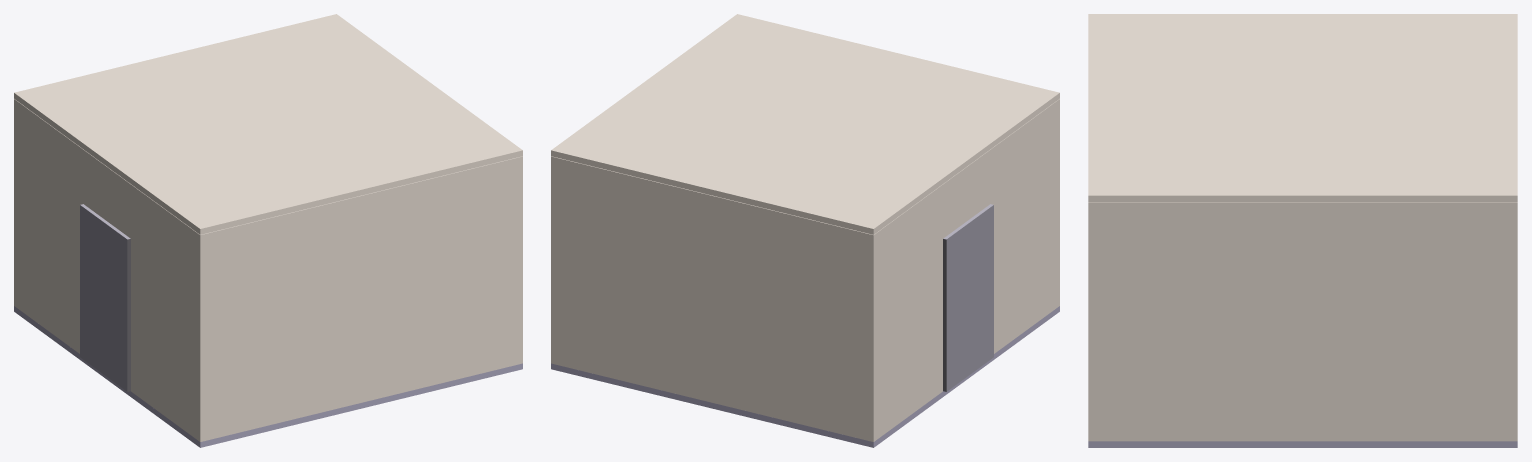
File: phong xam.fbx
The picture shows the model from 3 angles, left to right: view 1: azimuth 30°, elevation 25°; view 2: azimuth 150°, elevation 25°; view 3: azimuth 270°, elevation 25°; orthographic projection. The views are drawn at different scales.
Visible parts, largest first — view 1: Cube.002, tuong.002, tuong.001, cua chinh, nen nha; view 2: tuong, tuong.002, tuong.001, cua chinh, nen nha; view 3: tuong.003, tuong.002, nen nha, tuong, Cube.002.
Boxes of the visible parts, <box> form: Cube.002: <box>197,156,522,441</box>; tuong.002: <box>14,14,522,234</box>; tuong.001: <box>14,99,205,441</box>; cua chinh: <box>80,204,130,391</box>; nen nha: <box>14,306,522,447</box>; tuong: <box>551,156,875,441</box>; tuong.002: <box>551,14,1059,234</box>; tuong.001: <box>868,99,1059,441</box>; cua chinh: <box>943,204,993,391</box>; nen nha: <box>551,306,1059,447</box>; tuong.003: <box>1088,202,1517,441</box>; tuong.002: <box>1088,14,1517,202</box>; nen nha: <box>1088,441,1517,447</box>; tuong: <box>1510,202,1517,441</box>; Cube.002: <box>1088,202,1095,441</box>.
Bounding box in the file's own units: 202 × 130 × 200.
Materials: 1 (1 with a texture image).
